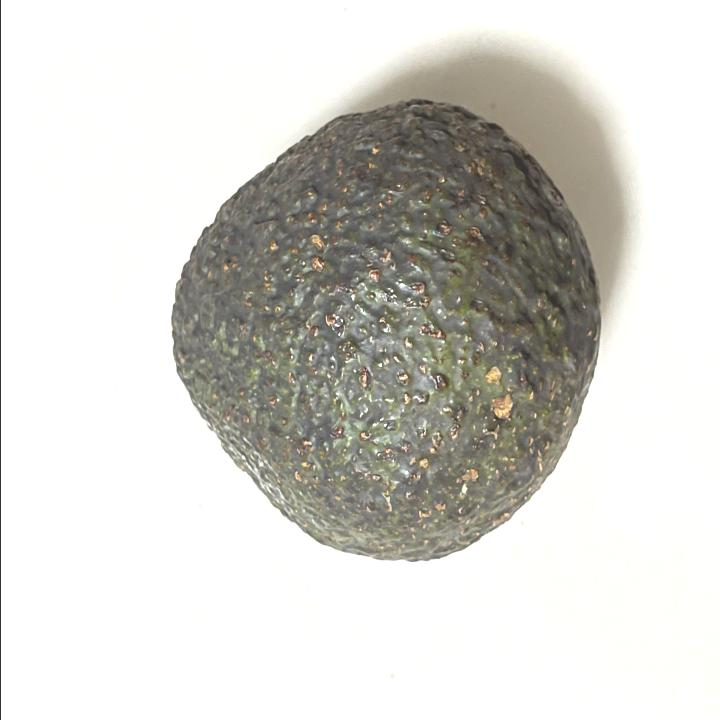Level1: (150, 81, 615, 592)
